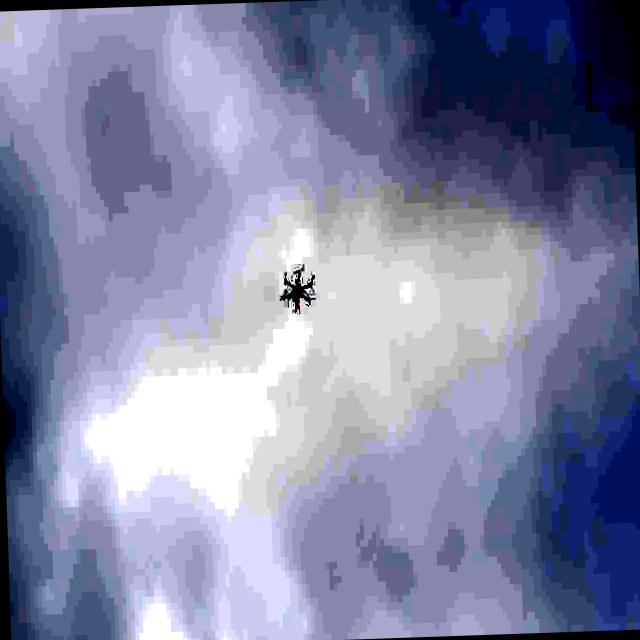drone: (280, 264, 318, 313)
